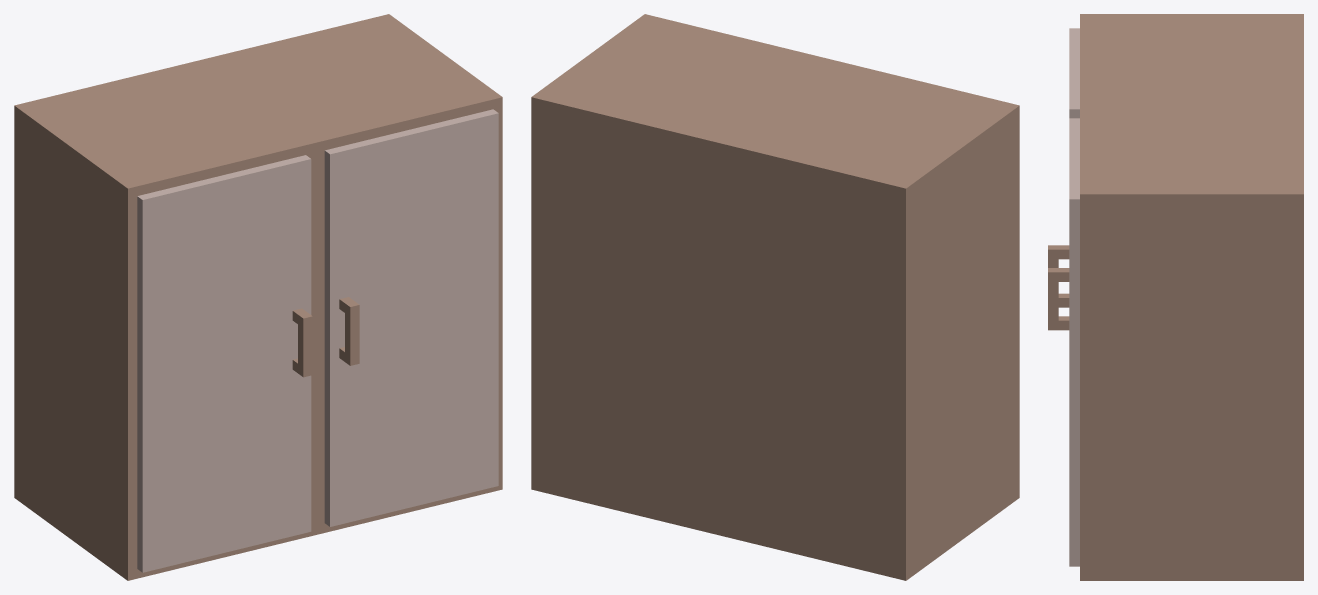
File: Wardrobe.obj
The picture shows the model from 3 angles, left to right: view 1: azimuth 30°, elevation 25°; view 2: azimuth 150°, elevation 25°; view 3: azimuth 270°, elevation 25°; orthographic projection.
Bounding box in the file's own units: 4 × 4 × 2.4.
1 material, 1 textured.
